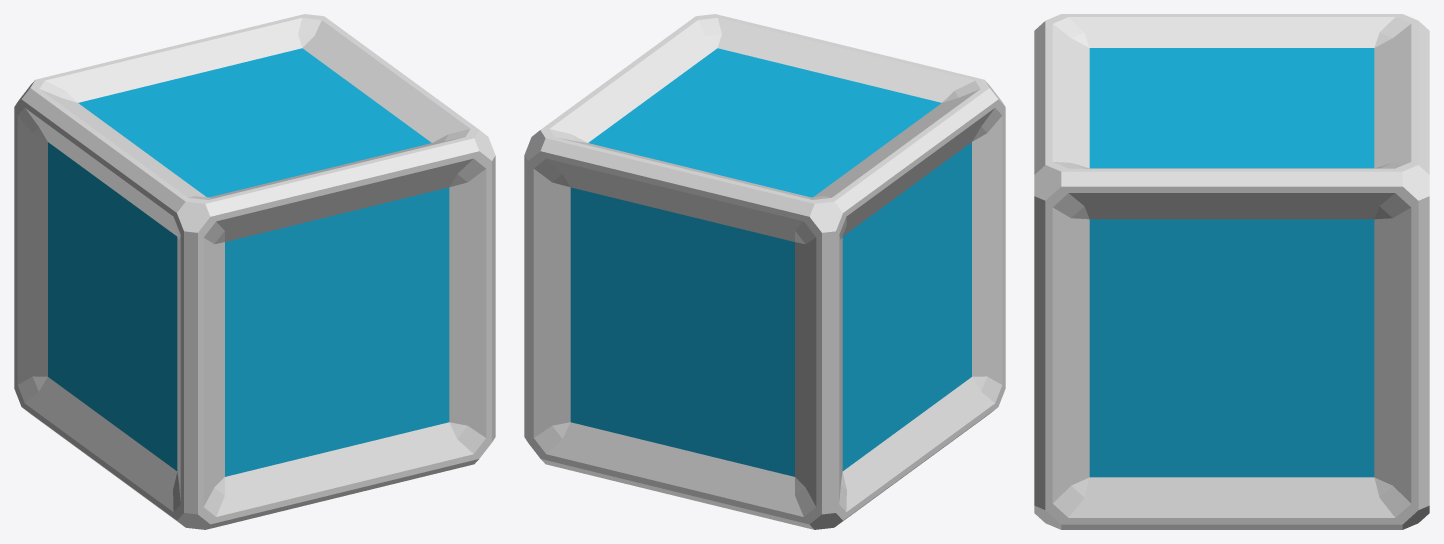
File: Power Cube.fbx
3 views of the same model, side by side, from view 1: azimuth 30°, elevation 25°; view 2: azimuth 150°, elevation 25°; view 3: azimuth 270°, elevation 25° (orthographic). The views are drawn at different scales.
Parts seen in each view (by area): view 1: Cube; view 2: Cube; view 3: Cube.
Part boxes in pixels (bbox=[...]): Cube: bbox=[14, 14, 495, 529]; Cube: bbox=[524, 14, 1005, 529]; Cube: bbox=[1034, 14, 1429, 529].
Size of the model in its own units: 219 by 219 by 219.
